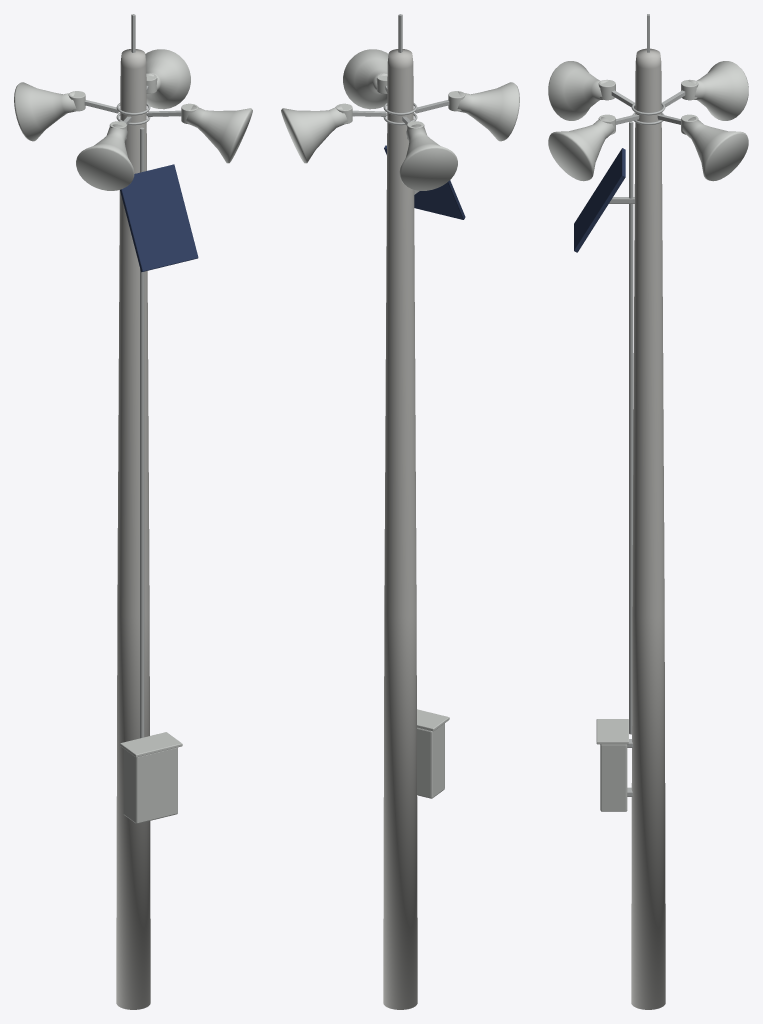
File: city-disaster-warning-speaker-pole.glb
The picture shows the model from 3 angles, left to right: view 1: azimuth 30°, elevation 25°; view 2: azimuth 150°, elevation 25°; view 3: azimuth 270°, elevation 25°; orthographic projection.
Visible parts, largest first — view 1: Assembly | Concrete pole grey, Assembly | Grey horn speaker, Assembly | Solar panel cells, Assembly | Grey equipment cabinet, Assembly | Galvanized bracket steel; view 2: Assembly | Concrete pole grey, Assembly | Grey horn speaker, Assembly | Grey equipment cabinet, Assembly | Solar panel cells, Assembly | Galvanized bracket steel; view 3: Assembly | Concrete pole grey, Assembly | Grey horn speaker, Assembly | Galvanized bracket steel, Assembly | Grey equipment cabinet, Assembly | Solar panel cells.
Boxes of the visible parts, <box> form: Assembly | Concrete pole grey: <box>116,49,150,1009</box>; Assembly | Grey horn speaker: <box>14,49,252,190</box>; Assembly | Solar panel cells: <box>120,164,198,272</box>; Assembly | Grey equipment cabinet: <box>120,732,182,823</box>; Assembly | Galvanized bracket steel: <box>84,14,181,738</box>; Assembly | Concrete pole grey: <box>383,49,417,1009</box>; Assembly | Grey horn speaker: <box>281,49,519,190</box>; Assembly | Grey equipment cabinet: <box>417,709,449,798</box>; Assembly | Solar panel cells: <box>384,145,465,219</box>; Assembly | Galvanized bracket steel: <box>352,14,449,194</box>; Assembly | Concrete pole grey: <box>631,48,665,1009</box>; Assembly | Grey horn speaker: <box>548,61,748,181</box>; Assembly | Galvanized bracket steel: <box>609,14,685,796</box>; Assembly | Grey equipment cabinet: <box>596,719,628,811</box>; Assembly | Solar panel cells: <box>574,148,625,252</box>.
Bounding box in the file's own units: 1.86 × 10.1 × 1.86.
